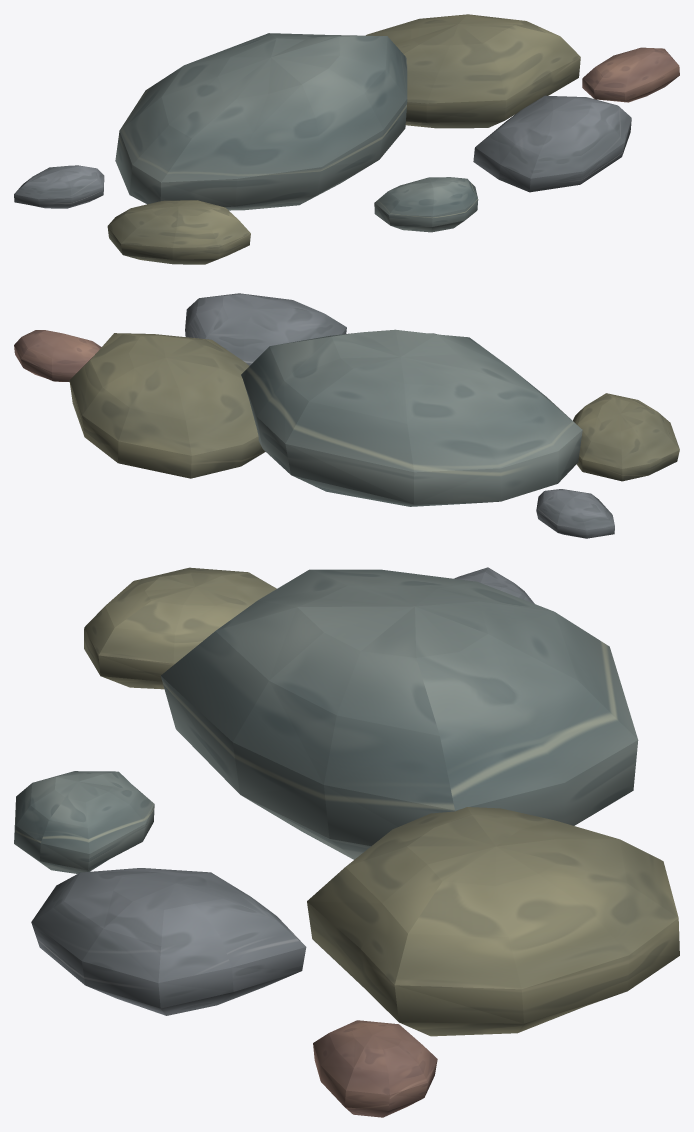
File: SM_ForestWater_CobbleBar.fbx
3 renders of one model, top to bottom at view 1: azimuth 30°, elevation 25°; view 2: azimuth 150°, elevation 25°; view 3: azimuth 270°, elevation 25°, orthographic. The views are drawn at different scales.
Parts seen in each view (by area): view 1: SM_ForestWater_CobbleBar; view 2: SM_ForestWater_CobbleBar; view 3: SM_ForestWater_CobbleBar.
Part boxes in pixels (<box>): SM_ForestWater_CobbleBar: <box>14,14,679,264</box>; SM_ForestWater_CobbleBar: <box>14,293,679,538</box>; SM_ForestWater_CobbleBar: <box>14,567,679,1117</box>.
Bounding box in the file's own units: 126 × 66.62 × 22.82.
Materials: 1 (1 with a texture image).
